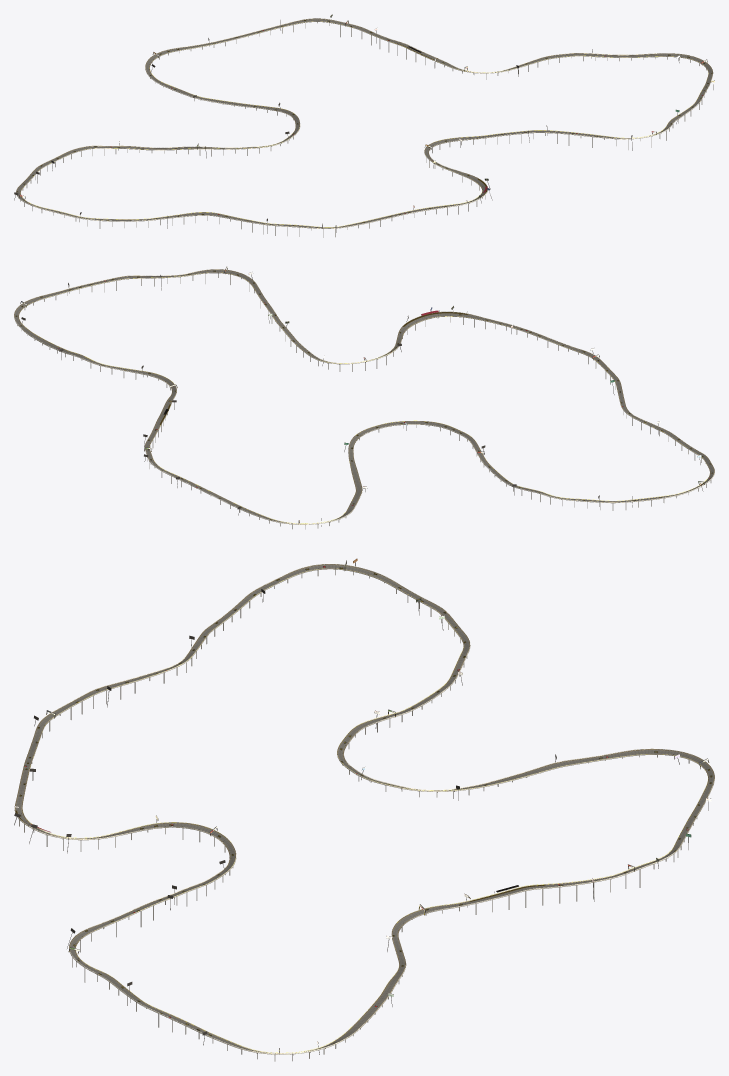
Rendered from track.glb.
3 renders of one model, top to bottom at view 1: azimuth 30°, elevation 25°; view 2: azimuth 150°, elevation 25°; view 3: azimuth 270°, elevation 25°, orthographic. The views are drawn at different scales.
Parts seen in each view (by area): view 1: track_surface, track_barriers, track_under, pylons, billboards, track_neon; view 2: track_surface, track_barriers, track_under, pylons, billboards; view 3: track_surface, track_barriers, track_under, pylons, billboards.
Boxes of the visible parts, box(x1,y1,x2,y2) form: track_surface: box(16, 18, 712, 228); track_barriers: box(17, 18, 712, 228); track_under: box(16, 18, 713, 228); pylons: box(20, 22, 708, 237); billboards: box(14, 14, 714, 233); track_neon: box(22, 18, 708, 228); track_surface: box(14, 269, 714, 523); track_barriers: box(14, 269, 714, 524); track_under: box(14, 269, 714, 524); pylons: box(17, 272, 711, 529); billboards: box(21, 272, 703, 526); track_surface: box(15, 564, 714, 1053); track_barriers: box(14, 564, 714, 1054); track_under: box(14, 564, 714, 1054); pylons: box(18, 567, 709, 1061); billboards: box(14, 558, 711, 1054).
Bounding box in the file's own units: 2674 × 84.29 × 1659.
59 materials, 45 textured.
